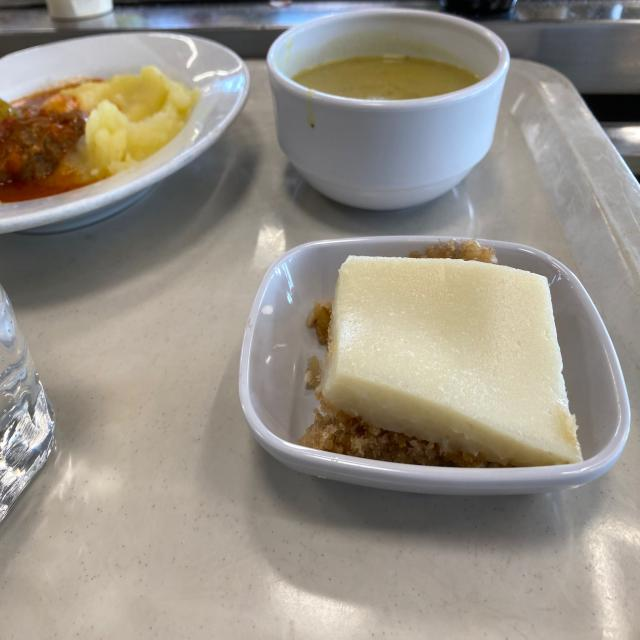yan_yemek: (228, 237, 602, 483)
